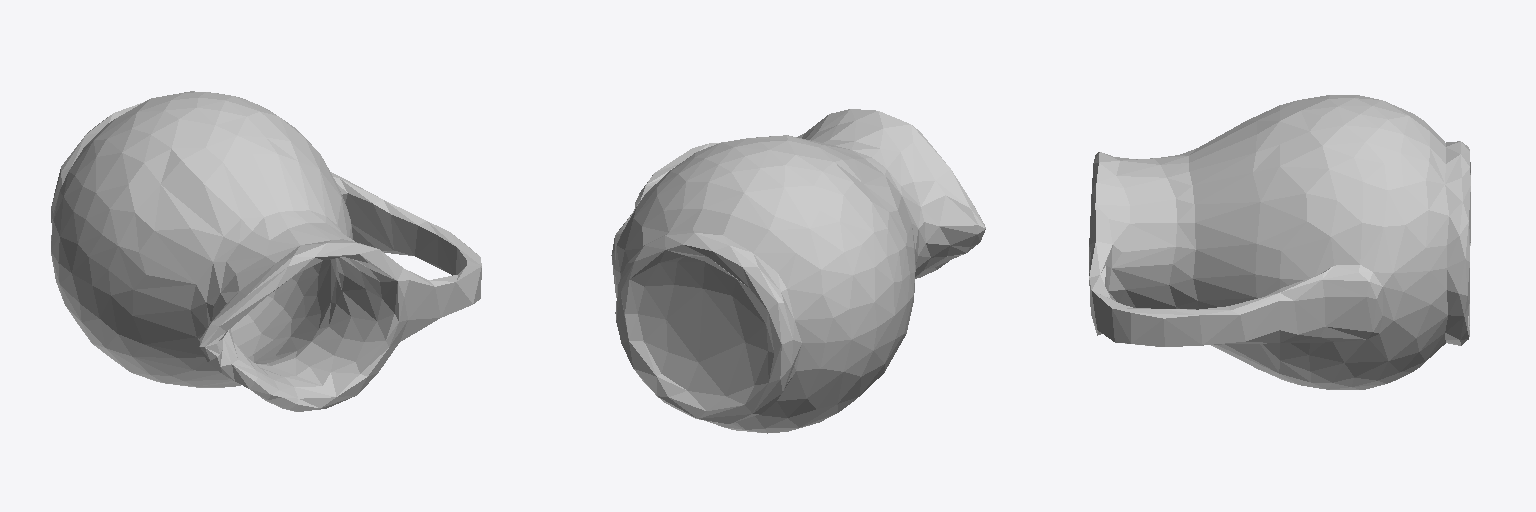
Rendered from uploads_files_2981855_Pitcher_low.obj.
3 views of the same model, side by side, from view 1: azimuth 30°, elevation 25°; view 2: azimuth 150°, elevation 25°; view 3: azimuth 270°, elevation 25° (orthographic).
Parts seen in each view (by area): view 1: Pitcher_low; view 2: Pitcher_low; view 3: Pitcher_low.
Boxes of the visible parts, box(x1,y1,x2,y2) form: Pitcher_low: box(51, 91, 481, 411); Pitcher_low: box(611, 109, 985, 433); Pitcher_low: box(1089, 95, 1470, 389).
Bounding box in the file's own units: 22.9 × 18.95 × 24.4.